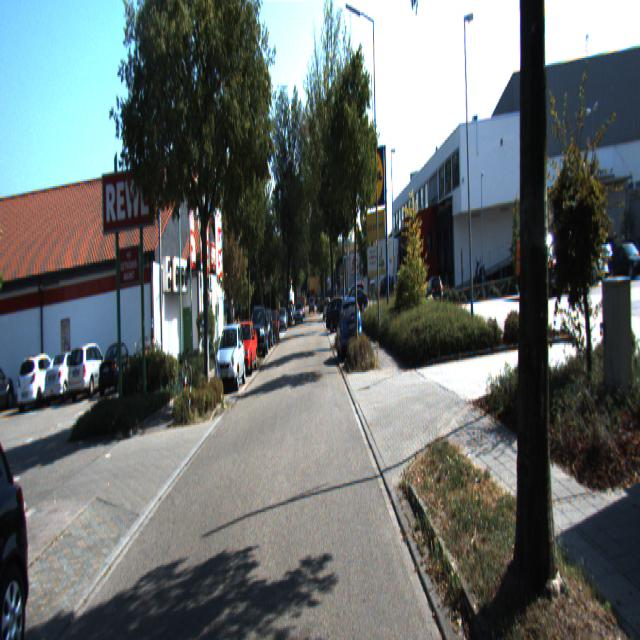Car: (0, 389, 40, 638), (67, 341, 114, 403), (16, 352, 66, 410), (98, 341, 139, 403), (45, 350, 89, 406), (215, 324, 246, 394), (336, 297, 362, 362), (231, 320, 258, 376), (249, 305, 269, 359)
